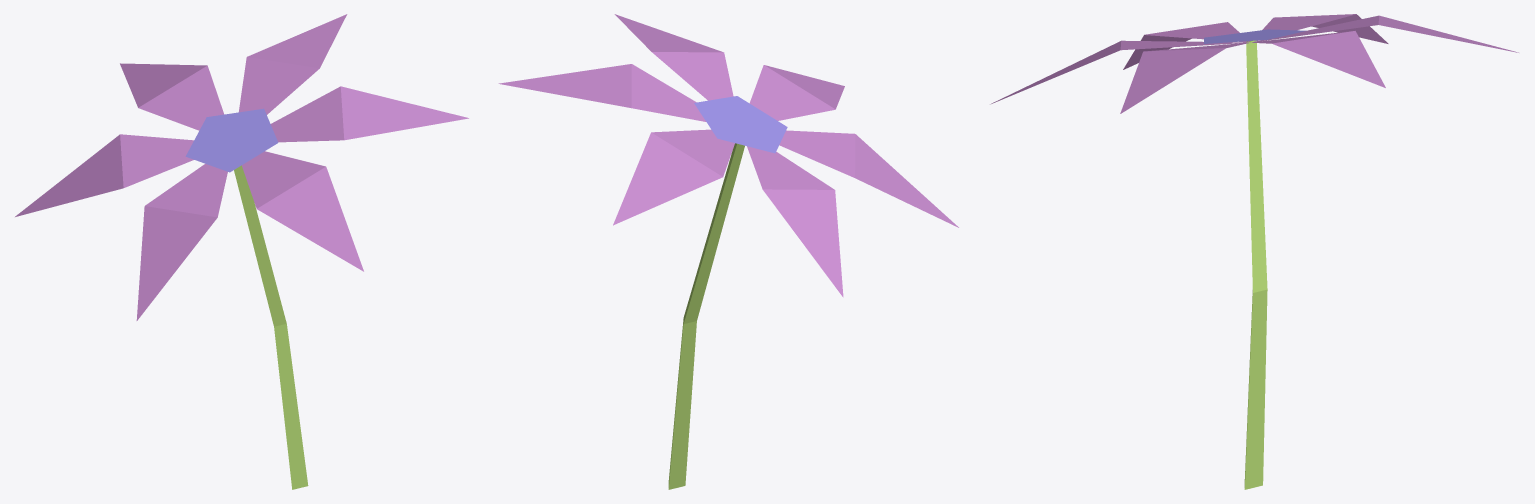
Rendered from Flower_b_TwoS_04.fbx.
3 renders of one model, left to right at view 1: azimuth 30°, elevation 25°; view 2: azimuth 150°, elevation 25°; view 3: azimuth 270°, elevation 25°, orthographic. The views are drawn at different scales.
Parts seen in each view (by area): view 1: Flower_b_TwoS_04; view 2: Flower_b_TwoS_04; view 3: Flower_b_TwoS_04.
Boxes of the visible parts, x1,y1,x2,y2 form: Flower_b_TwoS_04: (15,14,468,489); Flower_b_TwoS_04: (498,14,958,489); Flower_b_TwoS_04: (990,14,1518,489).
Bounding box in the file's own units: 32.69 × 37.35 × 39.2.
